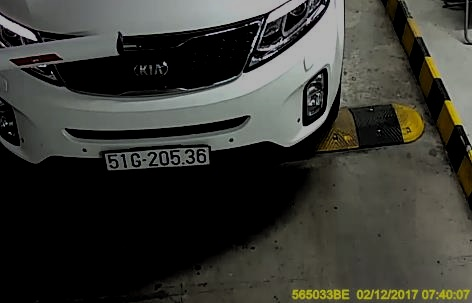plate: (104, 144, 215, 171)
